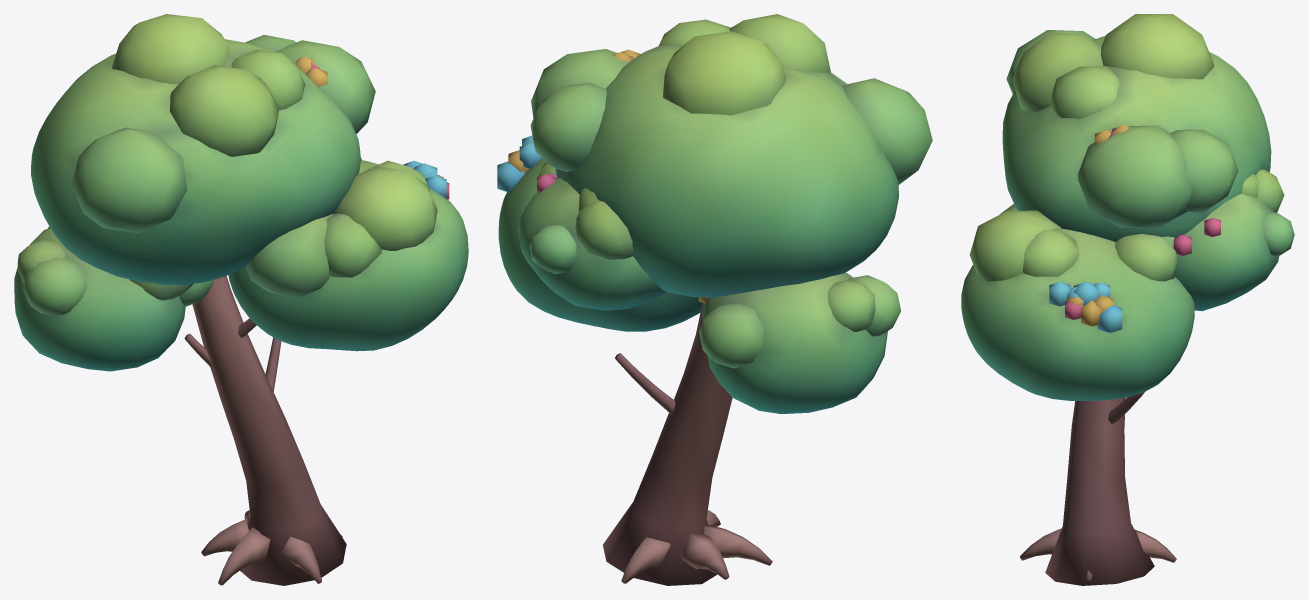
The model's file is verdant_tree_puffcap_b.glb.
3 views of the same model, side by side, from view 1: azimuth 30°, elevation 25°; view 2: azimuth 150°, elevation 25°; view 3: azimuth 270°, elevation 25° (orthographic). The views are drawn at different scales.
Parts seen in each view (by area): view 1: verdant_tree_puffcap_b; view 2: verdant_tree_puffcap_b; view 3: verdant_tree_puffcap_b.
Boxes of the visible parts, x1=… form: verdant_tree_puffcap_b: x1=14, y1=14, x2=468, y2=585; verdant_tree_puffcap_b: x1=497, y1=14, x2=932, y2=585; verdant_tree_puffcap_b: x1=961, y1=14, x2=1294, y2=585.
Bounding box in the file's own units: 7.82 × 10.3 × 6.02.
